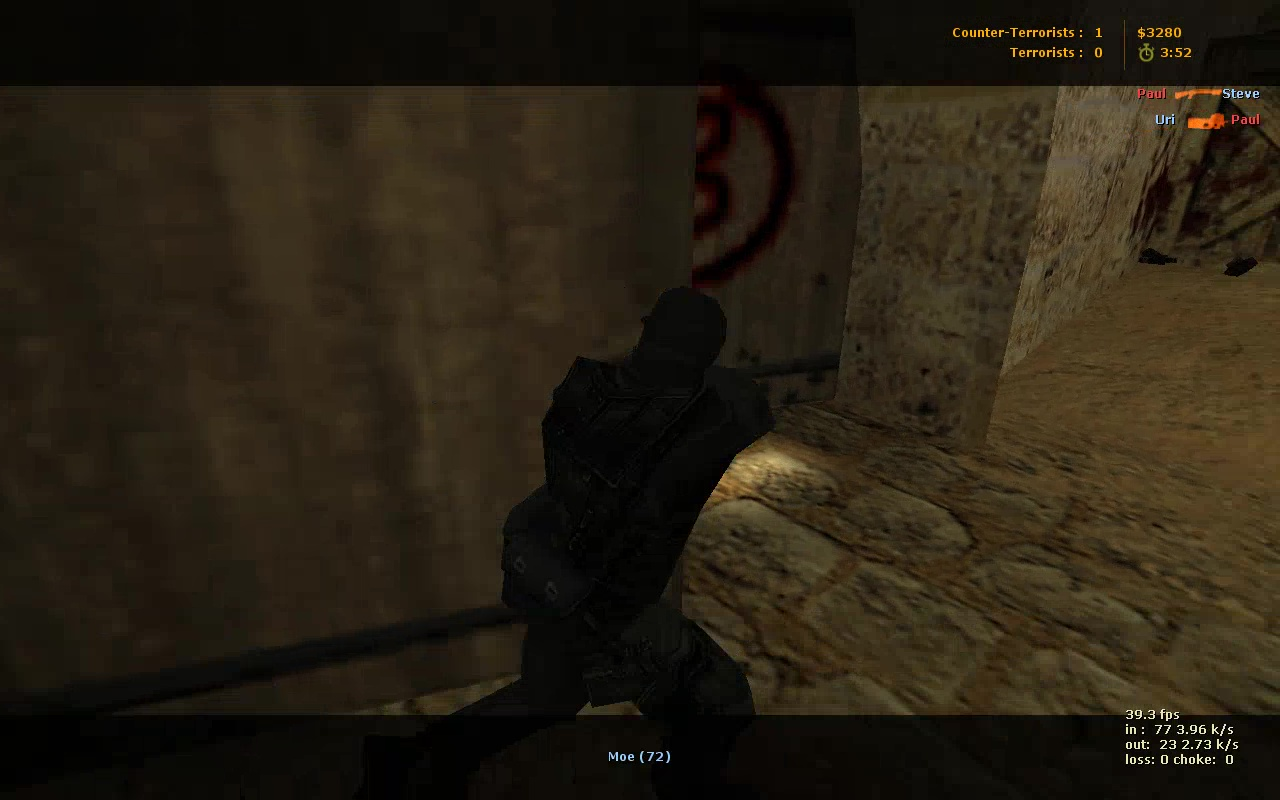ct: (446, 284, 790, 726)
